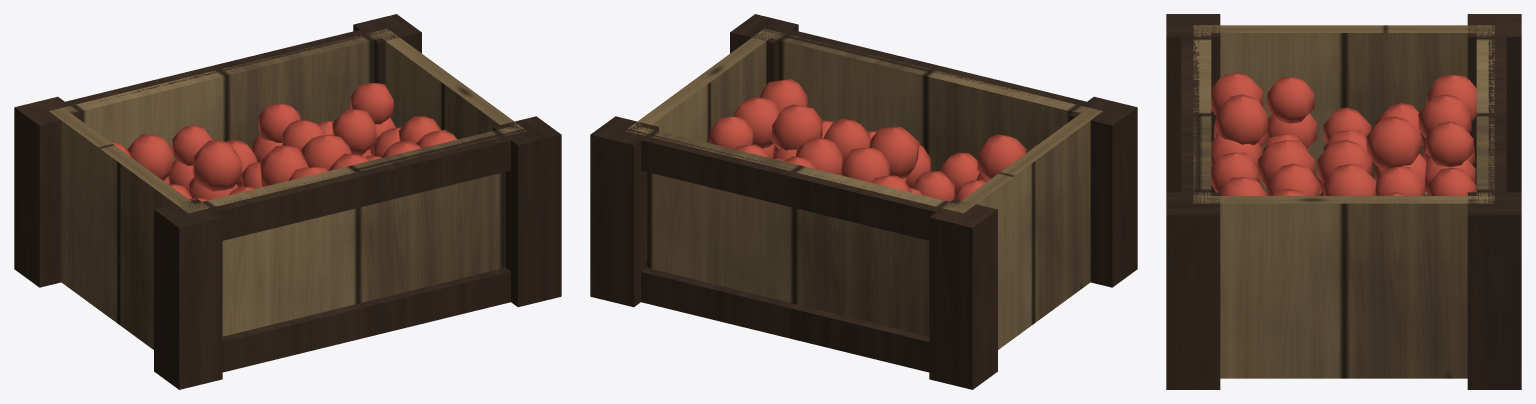
File: crate_produce.gltf
The picture shows the model from 3 angles, left to right: view 1: azimuth 30°, elevation 25°; view 2: azimuth 150°, elevation 25°; view 3: azimuth 270°, elevation 25°; orthographic projection. The views are drawn at different scales.
Visible parts, largest first — view 1: crate_produce_mesh; view 2: crate_produce_mesh; view 3: crate_produce_mesh.
Part boxes in pixels (x1,y1,x2,y2): crate_produce_mesh: [14, 14, 561, 389]; crate_produce_mesh: [590, 14, 1137, 389]; crate_produce_mesh: [1166, 14, 1521, 389].
Size of what is drawn, in the model's own units: 0.79 by 0.32 by 0.59.
3 materials, 2 textured.
